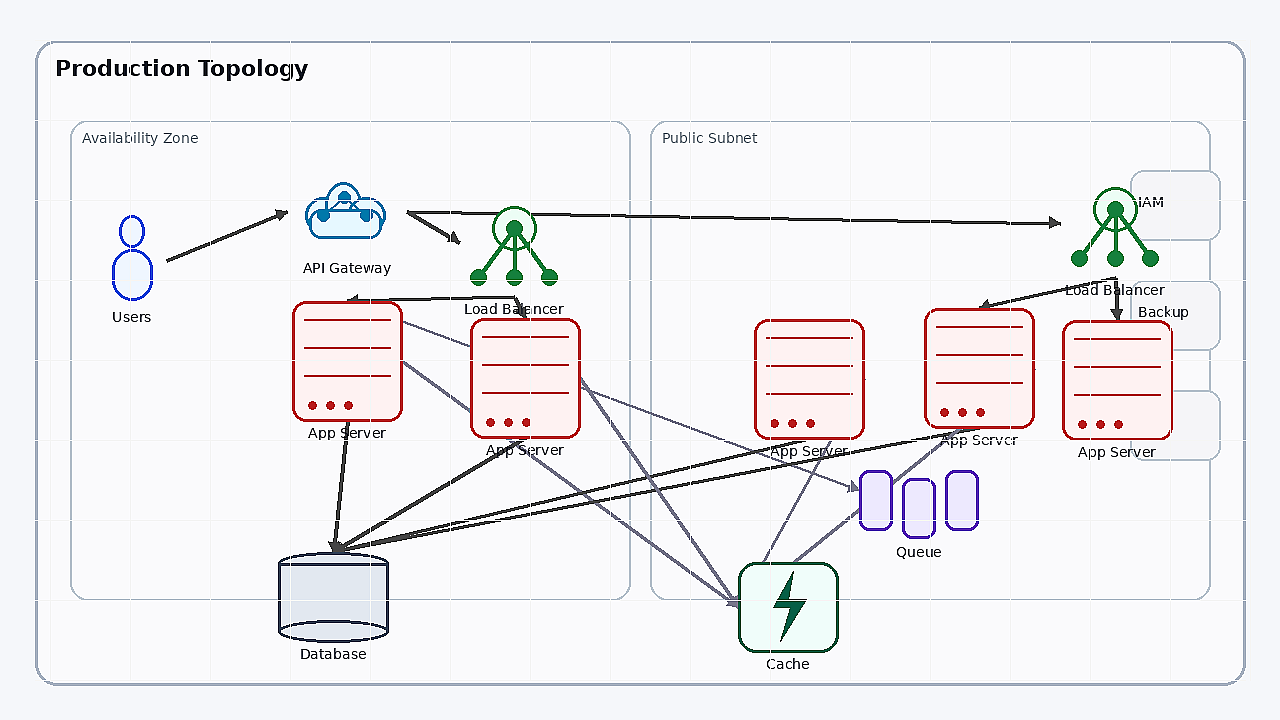API Gateway: (287, 166, 407, 256)
Application Server: (292, 301, 402, 421), (754, 319, 864, 439), (924, 308, 1034, 428), (470, 318, 580, 438), (1062, 320, 1172, 440)
Cache: (738, 562, 838, 652)
Database: (278, 552, 388, 642)
Load Balancer: (1060, 168, 1170, 278), (459, 187, 569, 297)
Message Queue: (859, 470, 979, 540)
User: (97, 215, 167, 305)
